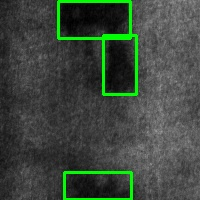patches: (58, 1, 130, 38), (103, 35, 136, 94), (64, 172, 131, 199)
